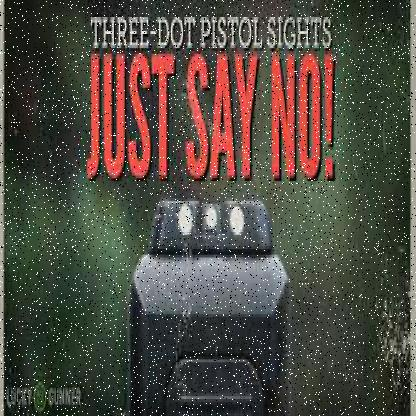pistol: (125, 192, 290, 413)
